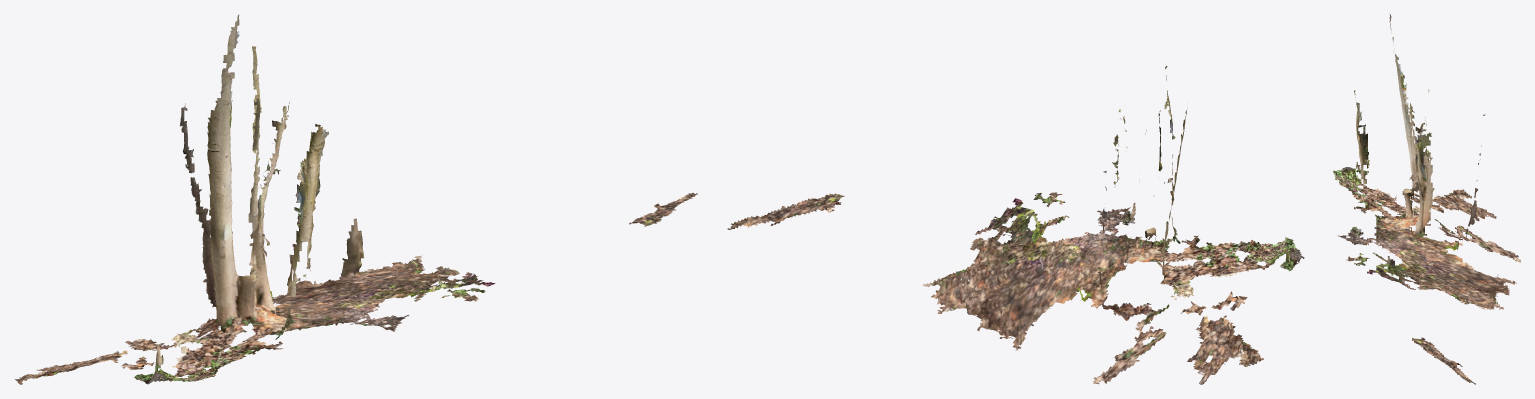
File: Untitled_Scan_17_18_41.gltf
3 views of the same model, side by side, from view 1: azimuth 30°, elevation 25°; view 2: azimuth 150°, elevation 25°; view 3: azimuth 270°, elevation 25° (orthographic). The views are drawn at different scales.
Size of the model in its own units: 6.66 by 3.77 by 2.6.
Materials: 1 (1 with a texture image).
